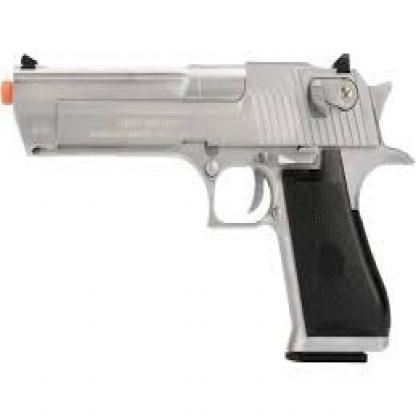Pistol: (3, 50, 412, 365)
